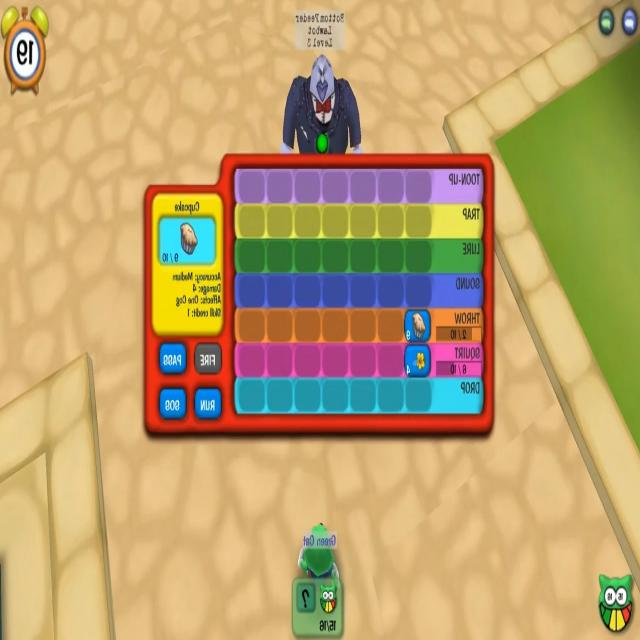bottomfeeder: (275, 8, 366, 152)
